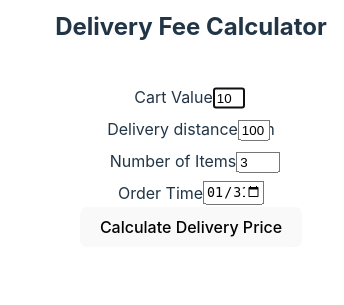
Test: Delivery Price is intially invisible until the button to calculate it is pressed
Click the button labelled "Calculate Delivery Price". click: (191, 227)
box: [80,206,302,248]
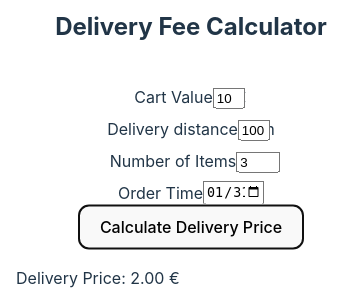
Now the text "Delivery Price: 2.00 €" is shown, box [16,268,180,288]
